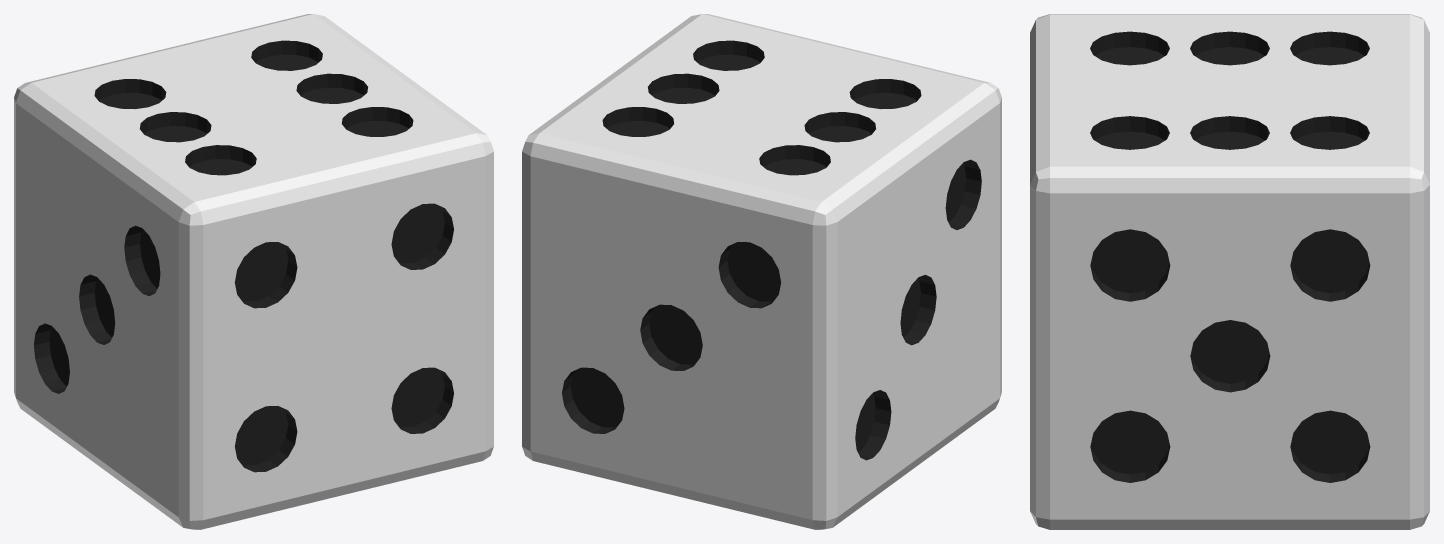
File: die.glb
3 views of the same model, side by side, from view 1: azimuth 30°, elevation 25°; view 2: azimuth 150°, elevation 25°; view 3: azimuth 270°, elevation 25° (orthographic). The views are drawn at different scales.
Parts seen in each view (by area): view 1: Cube; view 2: Cube; view 3: Cube.
Part boxes in pixels (bbox=[...]): Cube: bbox=[14, 14, 493, 529]; Cube: bbox=[522, 14, 1001, 529]; Cube: bbox=[1030, 14, 1429, 529].
Bounding box in the file's own units: 2 × 2 × 2.
1 material, 1 textured.
